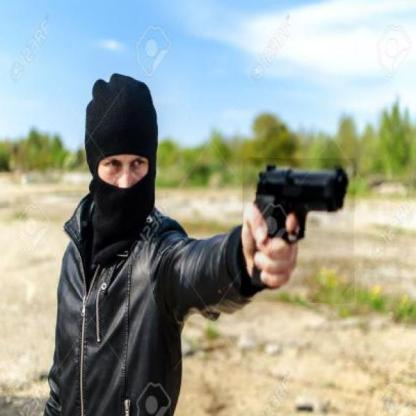handgun: (241, 158, 356, 303)
